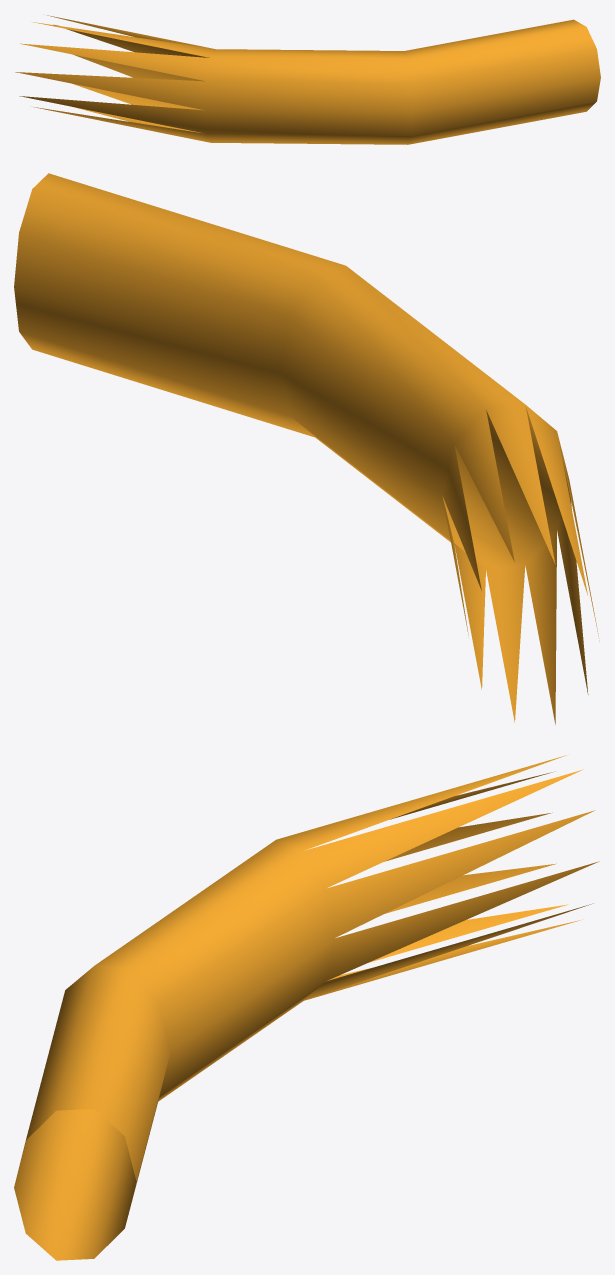
The model's file is TorusChunk_7_1.obj.
The picture shows the model from 3 angles, top to bottom: view 1: azimuth 30°, elevation 25°; view 2: azimuth 150°, elevation 25°; view 3: azimuth 270°, elevation 25°; orthographic projection. The views are drawn at different scales.
Visible parts, largest first — view 1: TorusChunk_7_1; view 2: TorusChunk_7_1; view 3: TorusChunk_7_1.
Part boxes in pixels (left/top/right/bottom): TorusChunk_7_1: left=15, top=15, right=600, bottom=144; TorusChunk_7_1: left=14, top=173, right=599, bottom=724; TorusChunk_7_1: left=14, top=755, right=599, bottom=1260.
Size of the model in its own units: 1.45 by 0.27 by 0.9574.
